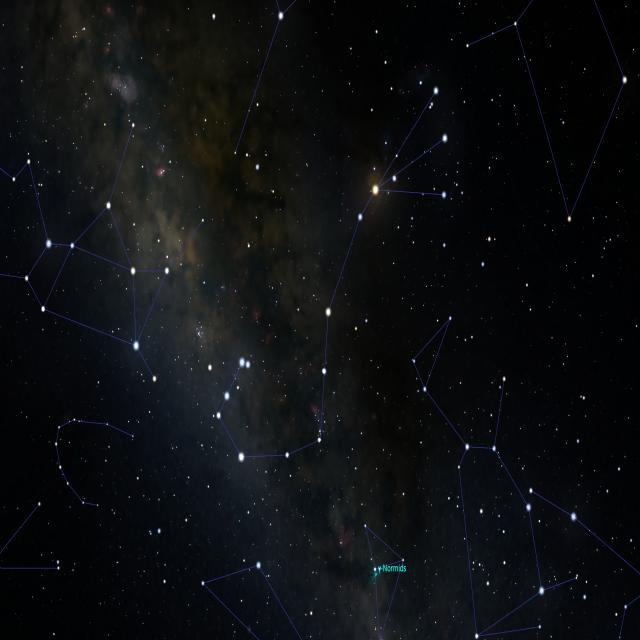Scorpius: (207, 82, 448, 466)
